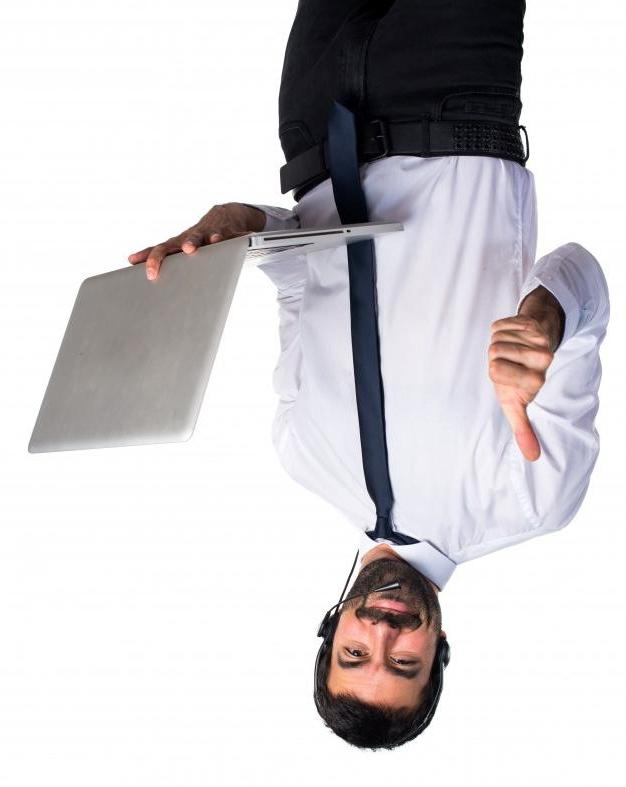thumbsdown: (488, 315, 554, 462)
